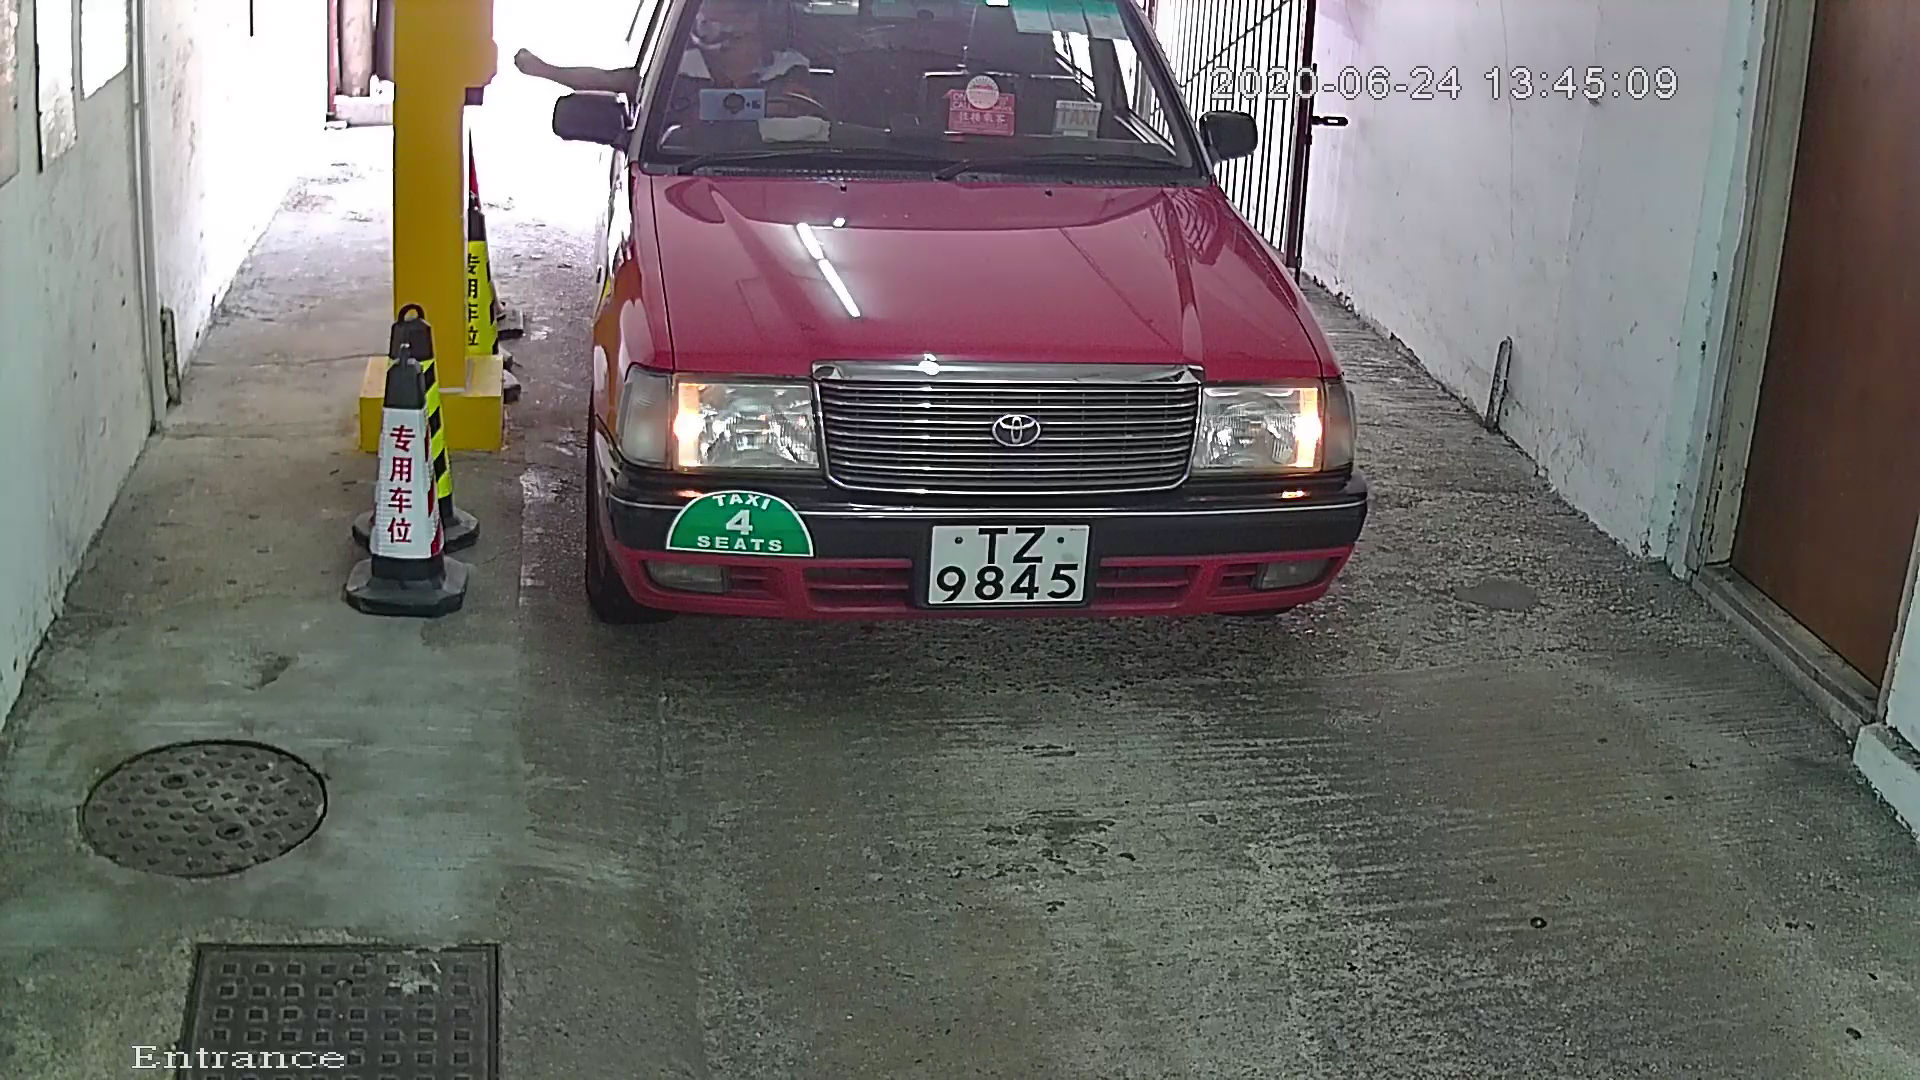Car: (522, 1, 1386, 710)
License Plate: (912, 511, 1109, 620)
